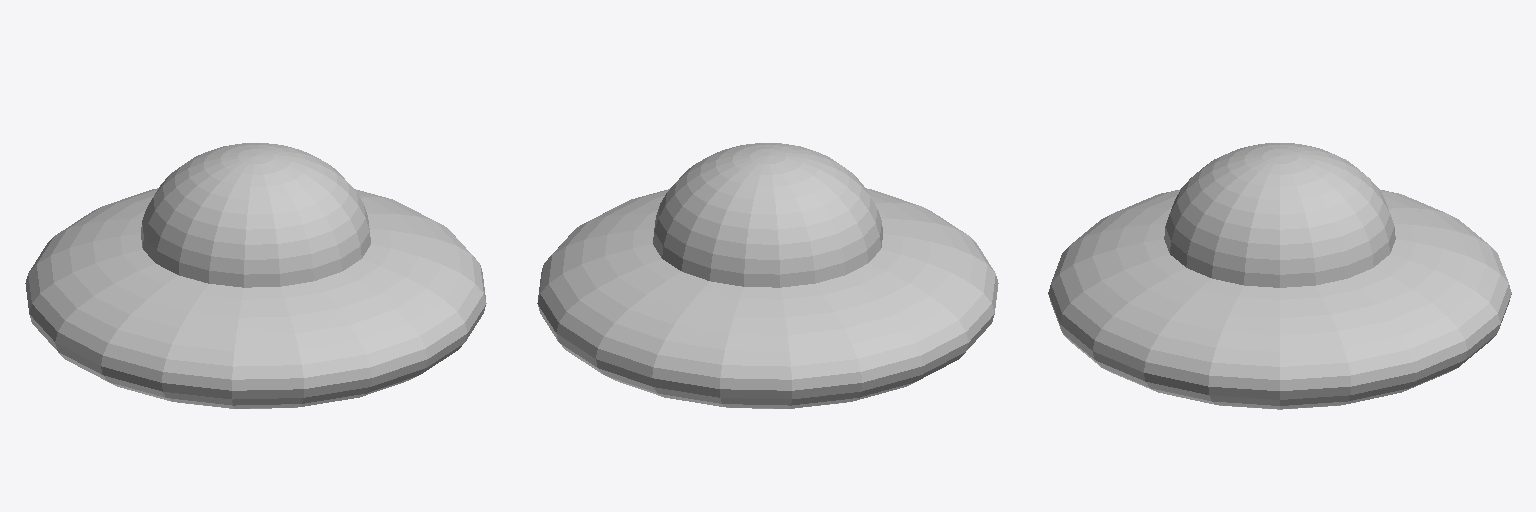
The model's file is UFO.obj.
3 views of the same model, side by side, from view 1: azimuth 30°, elevation 25°; view 2: azimuth 150°, elevation 25°; view 3: azimuth 270°, elevation 25° (orthographic).
Visible parts, largest first — view 1: pSphere3; view 2: pSphere3; view 3: pSphere3.
Boxes of the visible parts, box(x1,y1,x2,y2) form: pSphere3: box(25, 143, 486, 408); pSphere3: box(537, 143, 998, 408); pSphere3: box(1048, 143, 1511, 409).
Bounding box in the file's own units: 10 × 4.78 × 10.